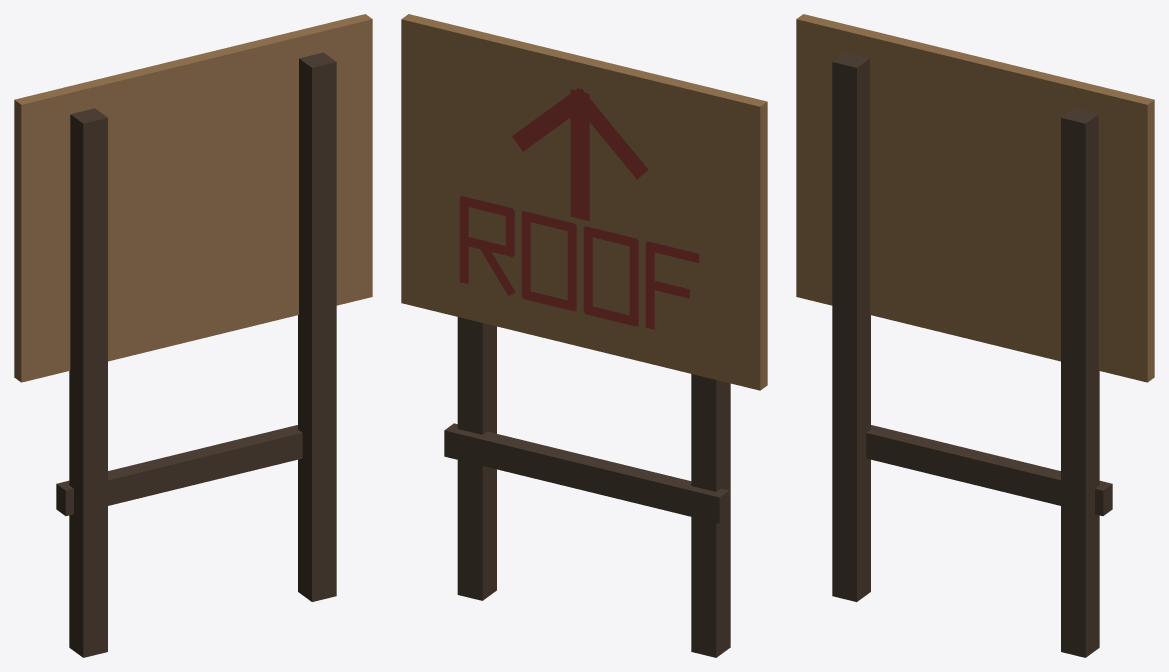
The model's file is stair_sign_roof.glb.
The picture shows the model from 3 angles, left to right: view 1: azimuth 30°, elevation 25°; view 2: azimuth 150°, elevation 25°; view 3: azimuth 330°, elevation 25°; orthographic projection. The views are drawn at different scales.
Parts seen in each view (by area): view 1: stair_sign_roof; view 2: stair_sign_roof; view 3: stair_sign_roof.
Part boxes in pixels (x1=…): stair_sign_roof: x1=14, y1=14, x2=372, y2=657; stair_sign_roof: x1=401, y1=14, x2=767, y2=657; stair_sign_roof: x1=796, y1=14, x2=1154, y2=657.
Size of what is drawn, in the model's own units: 0.86 by 1.3 by 0.088.
1 material, 1 textured.
